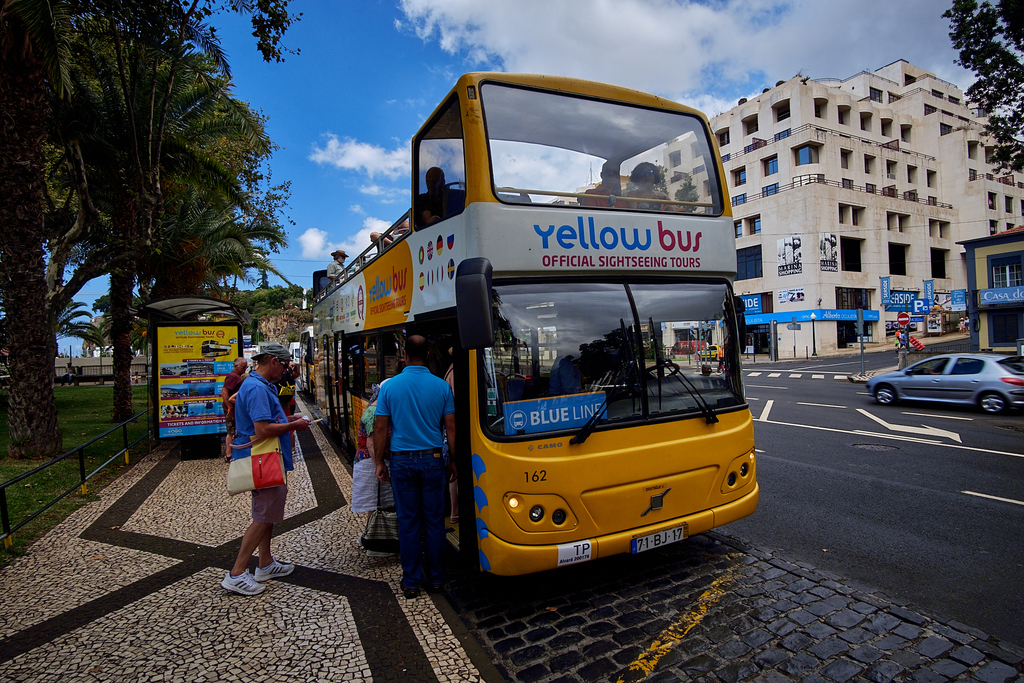Bus: (309, 69, 761, 579)
